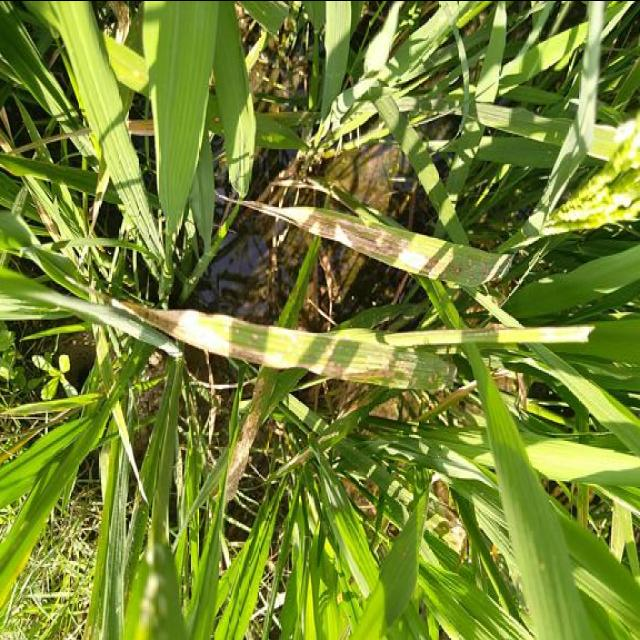Leaf Streak: (107, 301, 464, 390), (218, 193, 513, 286), (226, 375, 272, 502)
